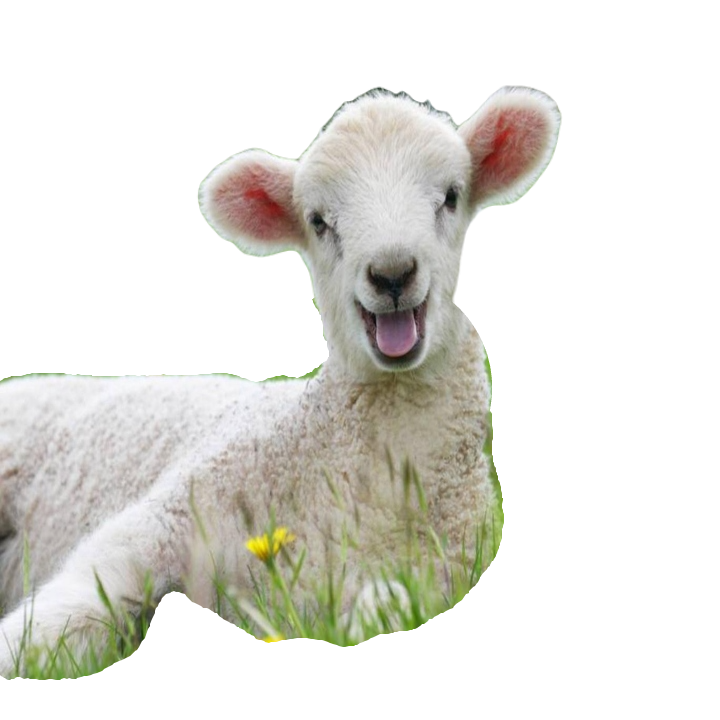Sheep: (0, 80, 565, 685)
